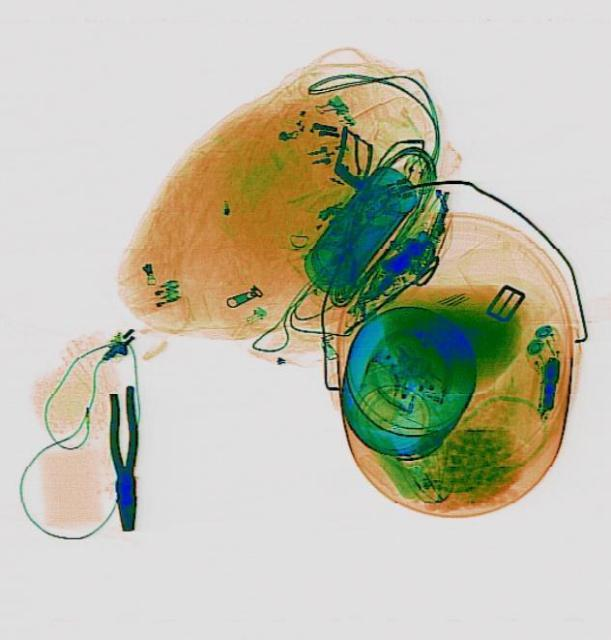Pliers: (105, 384, 142, 532)
